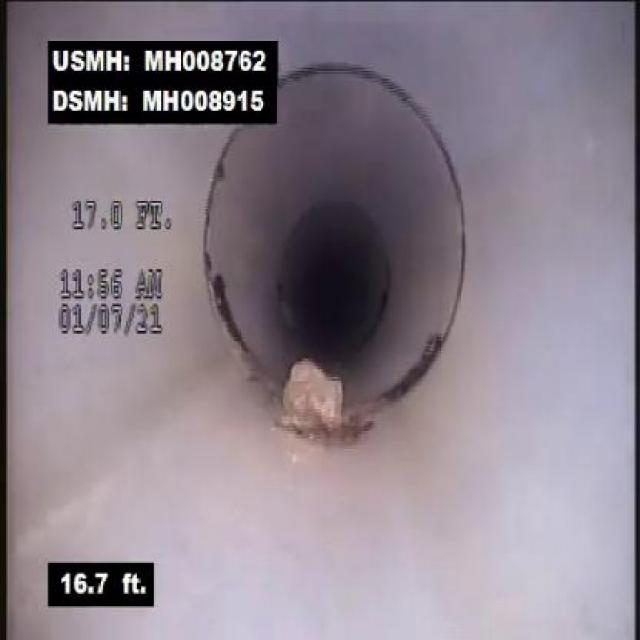Debris: (237, 326, 388, 456)
